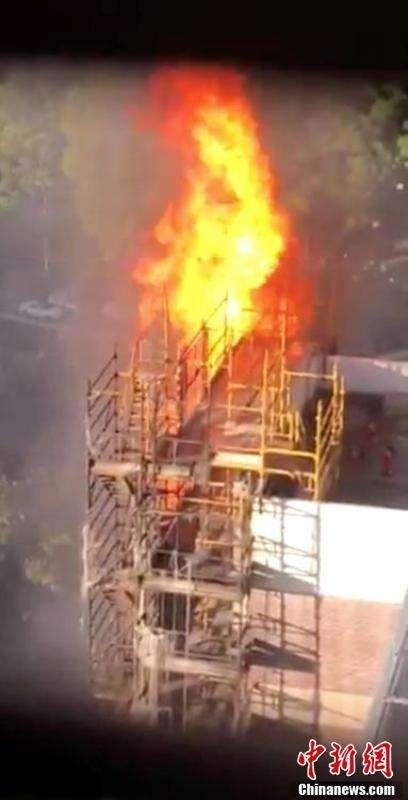fire: (143, 76, 288, 370)
